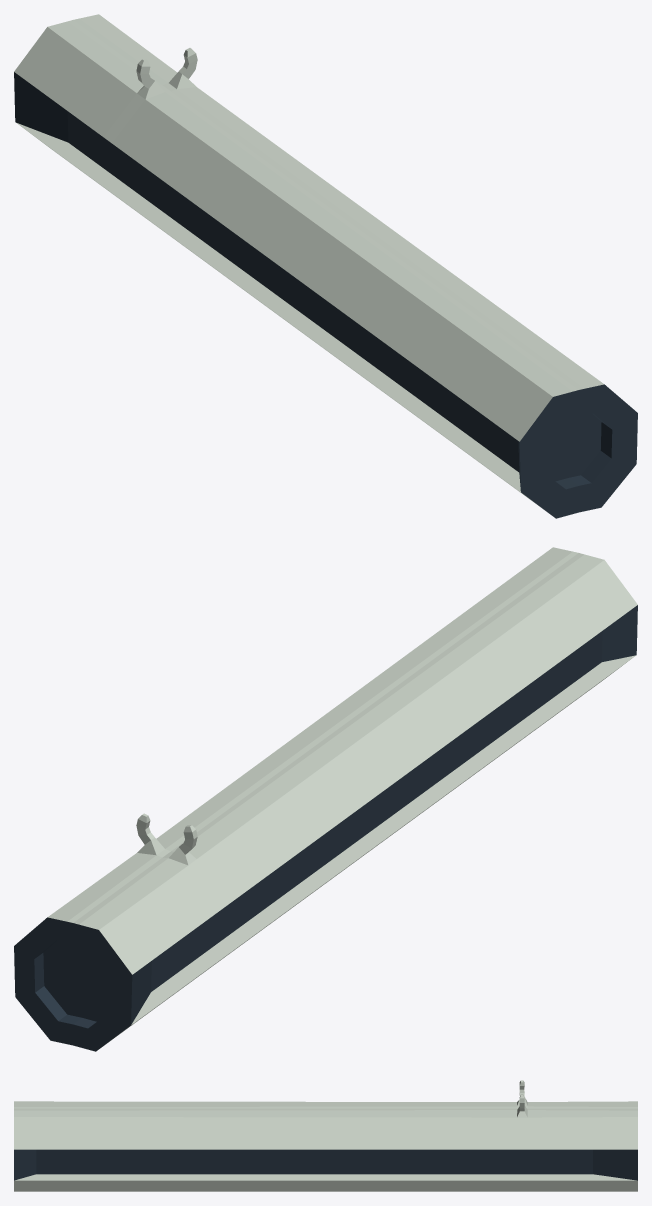
The model's file is railgun.fbx.
The picture shows the model from 3 angles, top to bottom: view 1: azimuth 30°, elevation 25°; view 2: azimuth 150°, elevation 25°; view 3: azimuth 270°, elevation 25°; orthographic projection. The views are drawn at different scales.
Parts seen in each view (by area): view 1: Railgun; view 2: Railgun; view 3: Railgun.
Part boxes in pixels (bbox=[...]): Railgun: bbox=[14, 14, 637, 518]; Railgun: bbox=[14, 547, 637, 1051]; Railgun: bbox=[14, 1080, 637, 1191].
Bounding box in the file's own units: 19.14 × 24.35 × 142.
